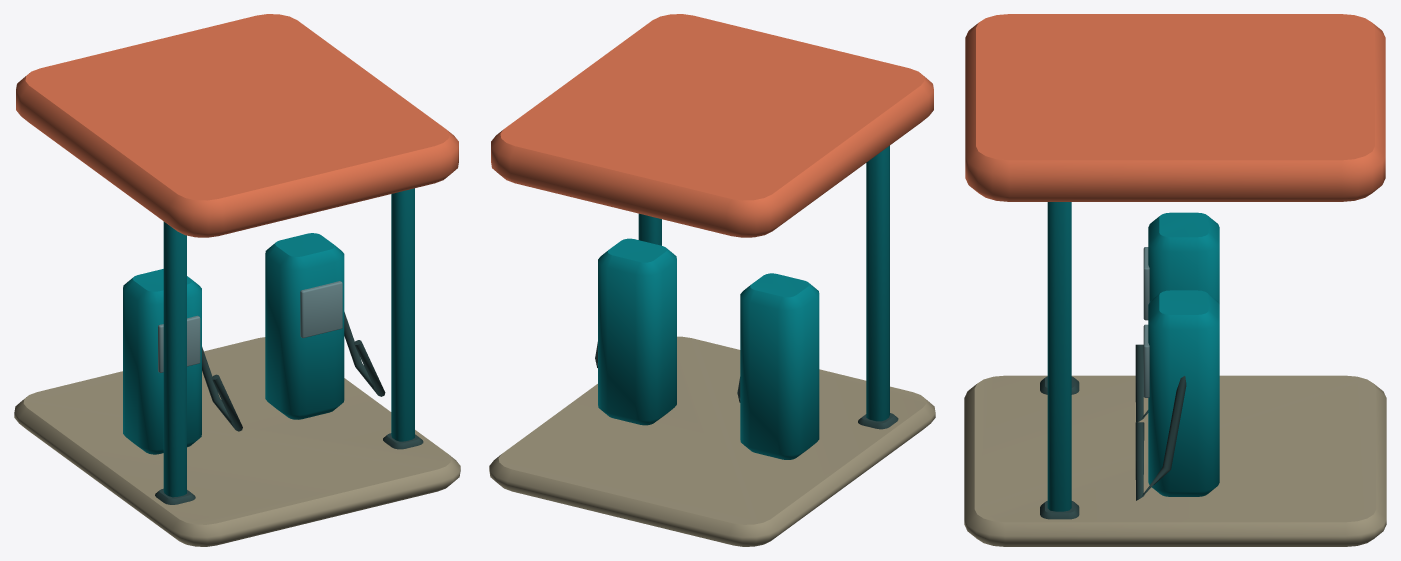
The model's file is ocean_fuel_2.glb.
3 renders of one model, left to right at view 1: azimuth 30°, elevation 25°; view 2: azimuth 150°, elevation 25°; view 3: azimuth 270°, elevation 25°, orthographic. The views are drawn at different scales.
Parts seen in each view (by area): view 1: Fuel2; view 2: Fuel2; view 3: Fuel2.
Part boxes in pixels (x1,y1,x2,y2): Fuel2: (14,14,460,546); Fuel2: (489,14,935,546); Fuel2: (964,14,1386,546).
Bounding box in the file's own units: 2.16 × 2.51 × 2.48.
